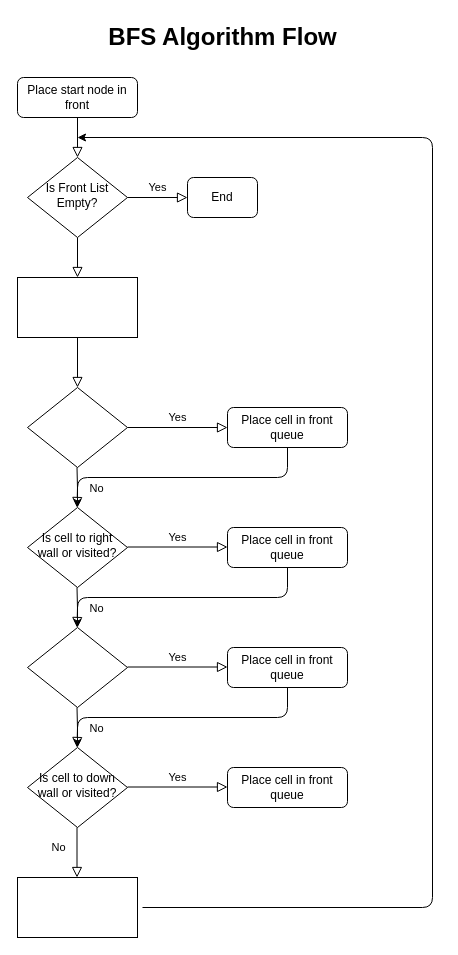
The diagram is 458 pixels wide and 955 high, and some of its shapes have lost their labels. Here are the shapes that lost their labels. From the top down, the centre of each, then its label:
At [77,307]: "Current Cell = Front and Move to Front".
At [77,427]: "Is cell to left wall or visited?".
At [77,667]: "Is cell to up wall or visited?".
At [77,907]: "Place Current cell in visited list and de-queue Front".
